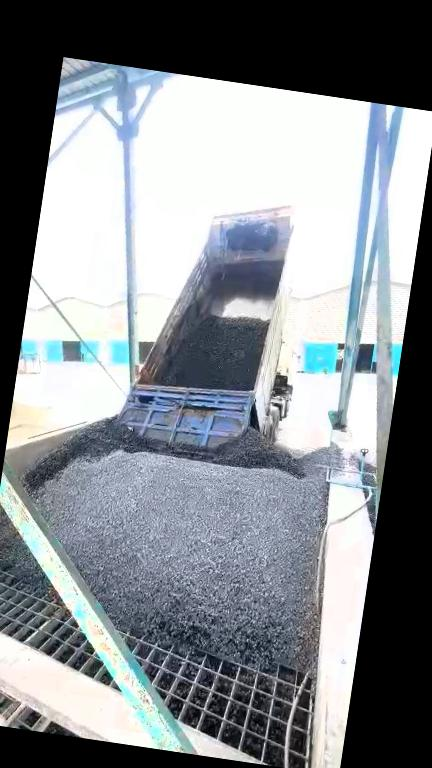gravel: (16, 413, 340, 680), (0, 495, 58, 598), (365, 488, 376, 537)
sand: (7, 397, 74, 449)
